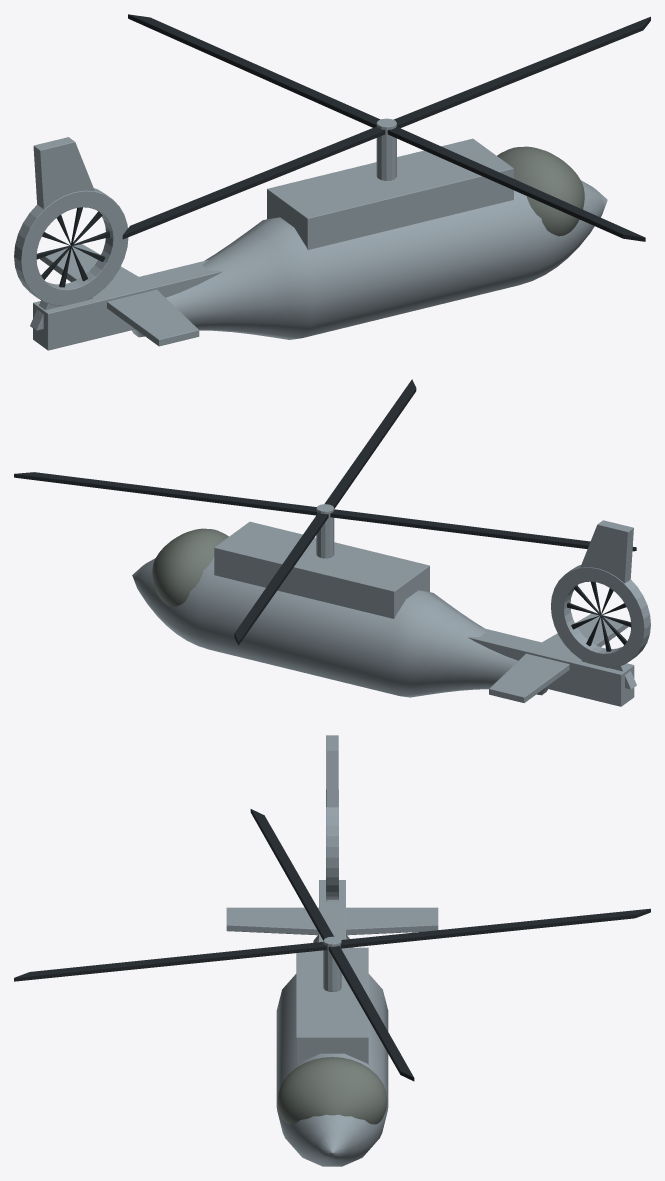
Rendered from fra_helo_panther.glb.
3 views of the same model, one above another, from view 1: azimuth 30°, elevation 25°; view 2: azimuth 150°, elevation 25°; view 3: azimuth 270°, elevation 25° (orthographic). The views are drawn at different scales.
Parts seen in each view (by area): view 1: fra_helo_panther; view 2: fra_helo_panther; view 3: fra_helo_panther.
Boxes of the visible parts, box(x1,y1,x2,y2) form: fra_helo_panther: box(14, 14, 650, 350); fra_helo_panther: box(14, 379, 650, 706); fra_helo_panther: box(14, 735, 650, 1166).
Bounding box in the file's own units: 10 × 3.47 × 9.13.
